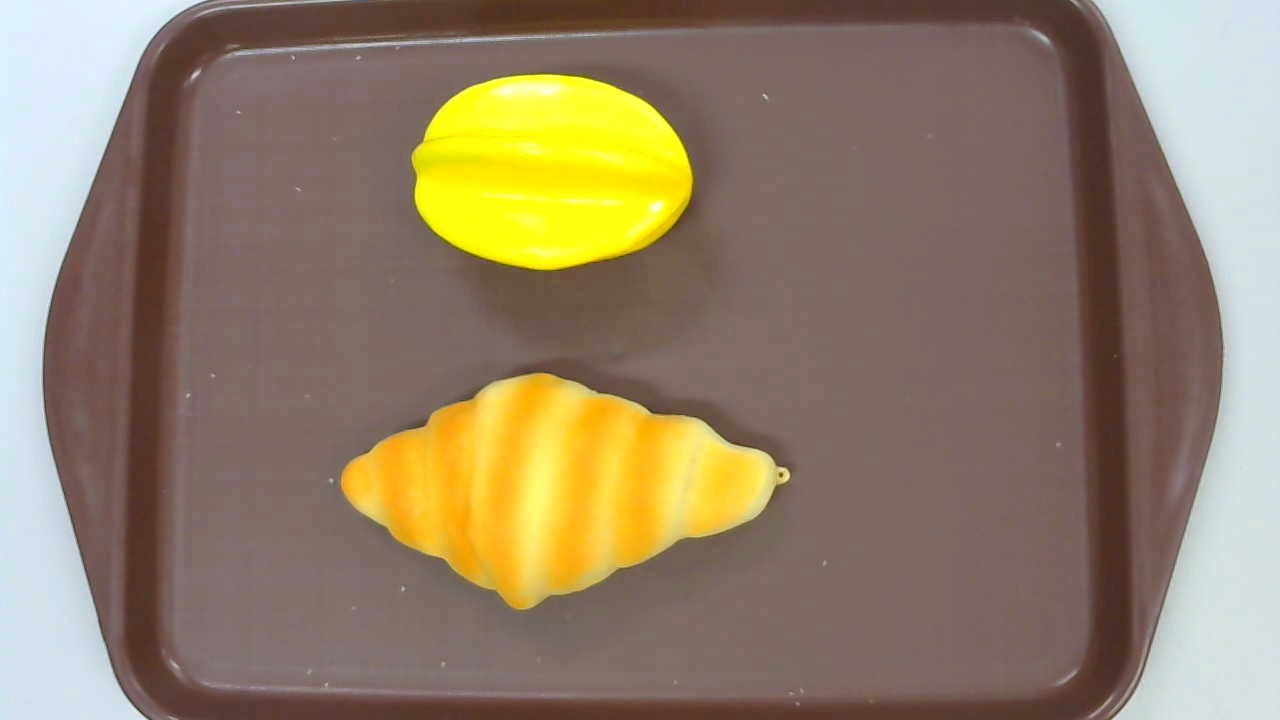croissant: (340, 372, 791, 610)
star fruit: (411, 73, 695, 273)
